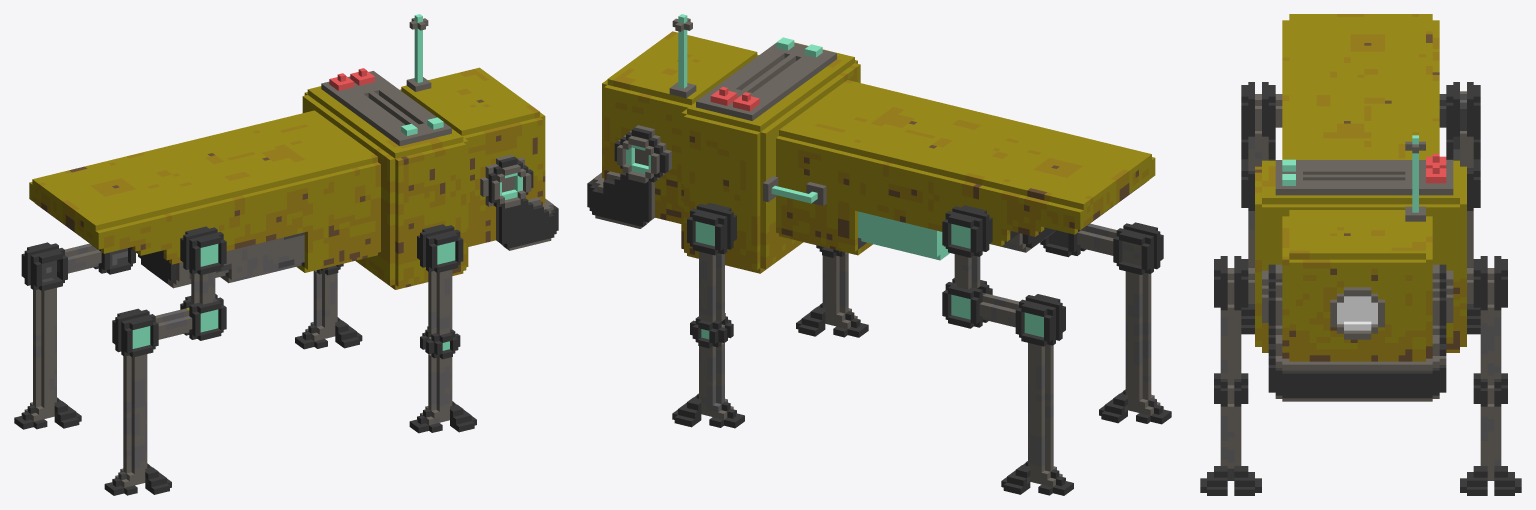
Rendered from robot.obj.
3 renders of one model, left to right at view 1: azimuth 30°, elevation 25°; view 2: azimuth 150°, elevation 25°; view 3: azimuth 270°, elevation 25°, orthographic. The views are drawn at different scales.
Bounding box in the file's own units: 8.8 × 6.1 × 4.7.
1 material, 1 textured.
